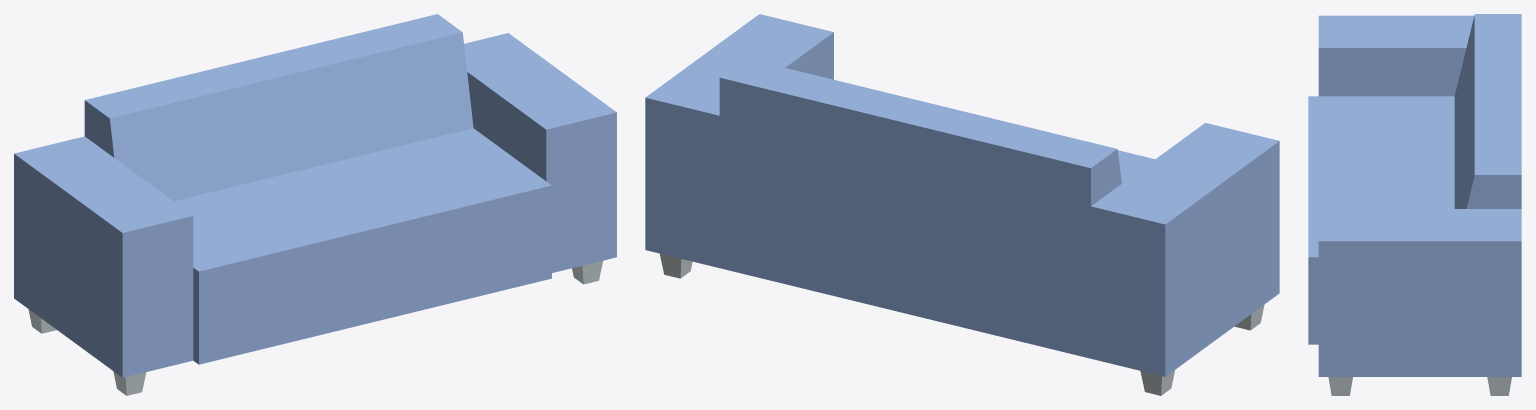
File: loungeDesignSofa-col.glb
3 views of the same model, side by side, from view 1: azimuth 30°, elevation 25°; view 2: azimuth 150°, elevation 25°; view 3: azimuth 270°, elevation 25° (orthographic). The views are drawn at different scales.
Visible parts, largest first — view 1: loungeDesignSofa-col; view 2: loungeDesignSofa-col; view 3: loungeDesignSofa-col.
Boxes of the visible parts, x1,y1,x2,y2 form: loungeDesignSofa-col: [14, 14, 616, 395]; loungeDesignSofa-col: [645, 14, 1279, 395]; loungeDesignSofa-col: [1308, 14, 1521, 395].
Bounding box in the file's own units: 1 × 0.4 × 0.4.
